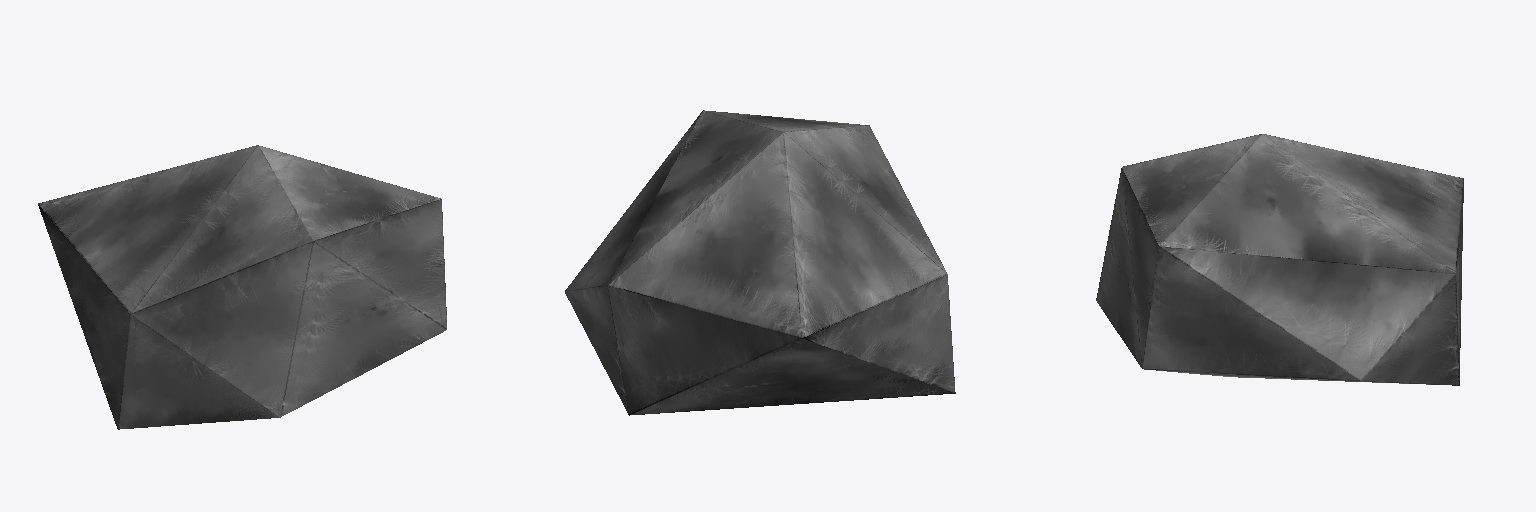
3 views of the same model, side by side, from view 1: azimuth 30°, elevation 25°; view 2: azimuth 150°, elevation 25°; view 3: azimuth 270°, elevation 25° (orthographic).
Parts seen in each view (by area): view 1: Icosphere_Icosphere.004; view 2: Icosphere_Icosphere.004; view 3: Icosphere_Icosphere.004.
Boxes of the visible parts, x1,y1,x2,y2 form: Icosphere_Icosphere.004: [38, 145, 446, 429]; Icosphere_Icosphere.004: [565, 110, 955, 415]; Icosphere_Icosphere.004: [1096, 134, 1463, 385].
Size of the model in its own units: 0.4634 by 0.3235 by 0.4531.
1 materials, 1 textured.